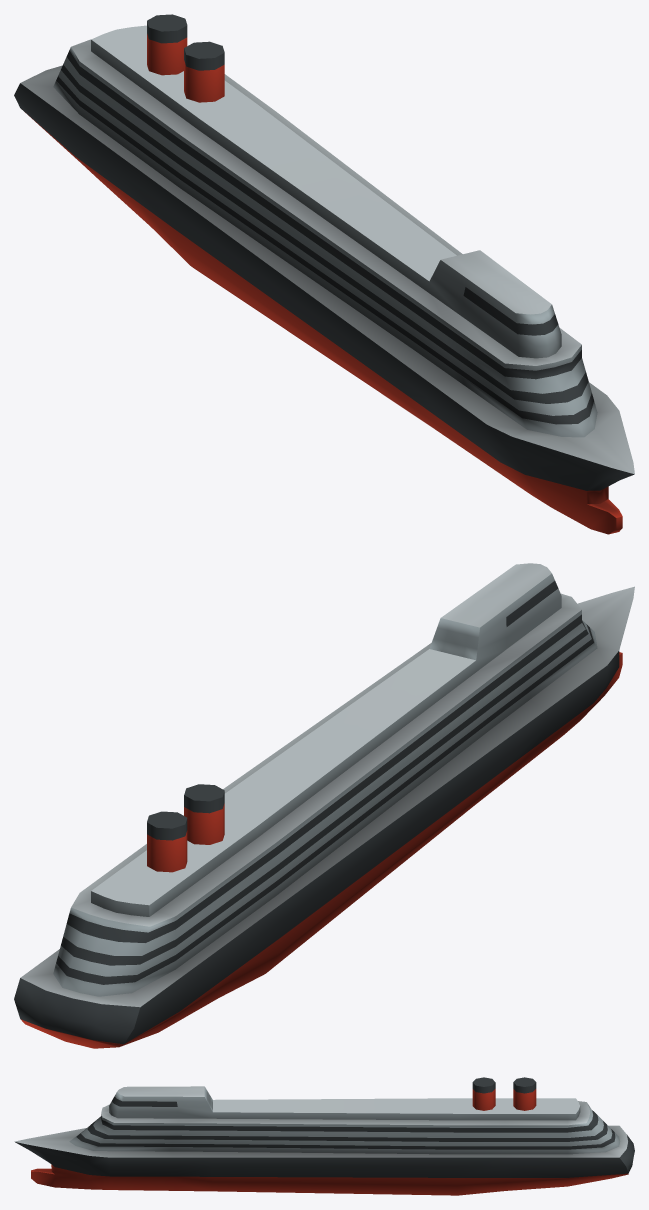
The picture shows the model from 3 angles, top to bottom: view 1: azimuth 30°, elevation 25°; view 2: azimuth 150°, elevation 25°; view 3: azimuth 270°, elevation 25°; orthographic projection. The views are drawn at different scales.
Parts seen in each view (by area): view 1: CruiseShip; view 2: CruiseShip; view 3: CruiseShip.
Part boxes in pixels (box(x1,y1,x2,y2)): CruiseShip: box(14, 14, 634, 534); CruiseShip: box(14, 563, 634, 1048); CruiseShip: box(14, 1077, 634, 1195).
Size of the model in its own units: 0.061 by 0.0919 by 0.5.
